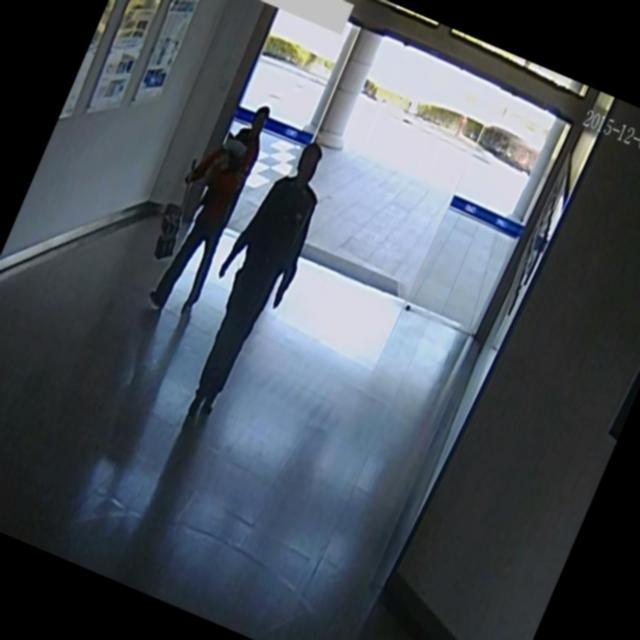person: (156, 119, 354, 438), (118, 60, 295, 337)
